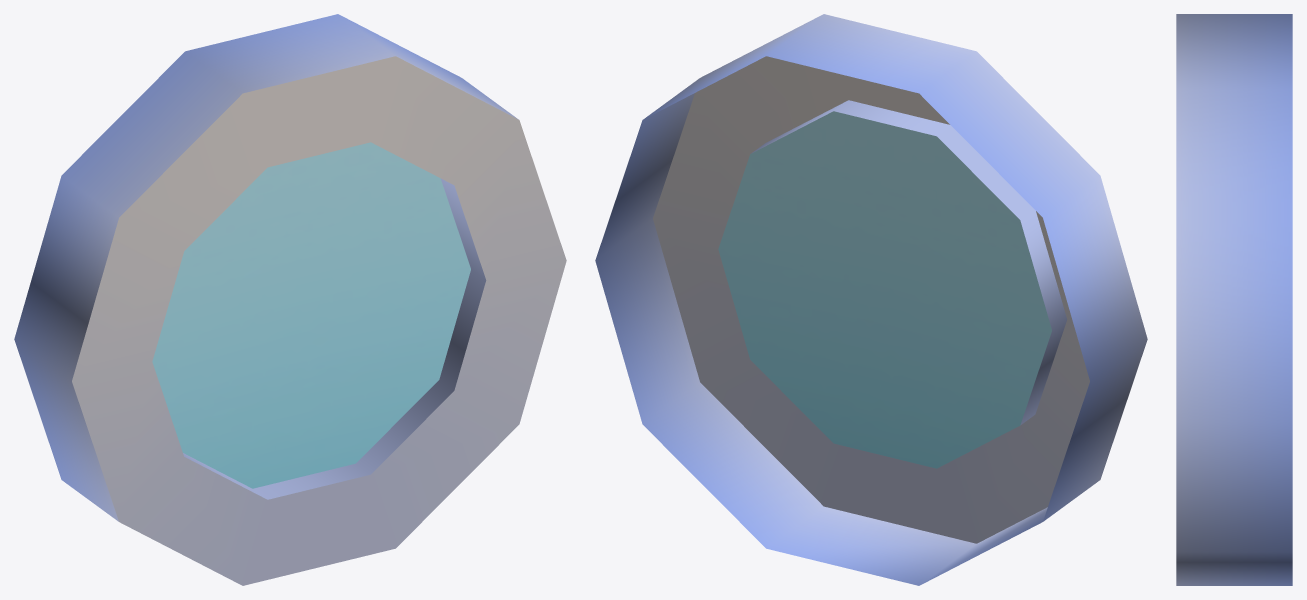
The model's file is Window_14B.fbx.
3 renders of one model, left to right at view 1: azimuth 30°, elevation 25°; view 2: azimuth 150°, elevation 25°; view 3: azimuth 270°, elevation 25°, orthographic.
Parts seen in each view (by area): view 1: Window_14B; view 2: Window_14B; view 3: Window_14B.
Boxes of the visible parts, box(x1,y1,x2,y2) form: Window_14B: box(14, 14, 566, 585); Window_14B: box(595, 14, 1147, 585); Window_14B: box(1176, 14, 1292, 585).
Size of the model in its own units: 95.99 by 91.29 by 19.35.
Materials: 2 (2 with a texture image).
